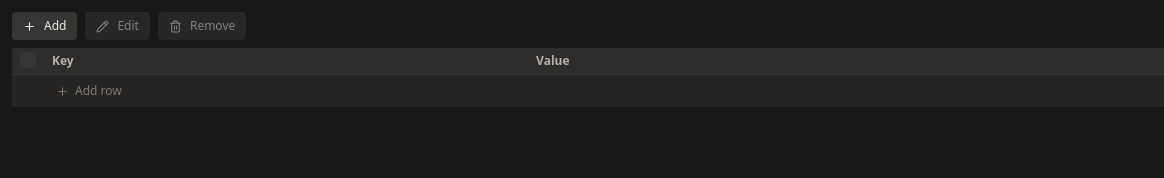
Test: KeyValueEditor › suggests known keys with search while typing a new key
Click the button with test id "kv-add" at (45, 26), box [12, 12, 77, 40]
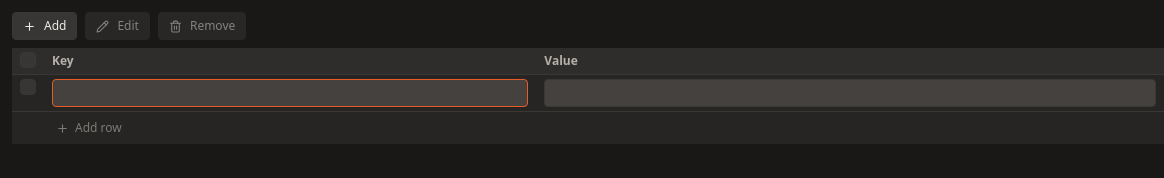
Type "limit" into the field with test id "kv-key-edit-" at (290, 93), box [52, 79, 528, 107]
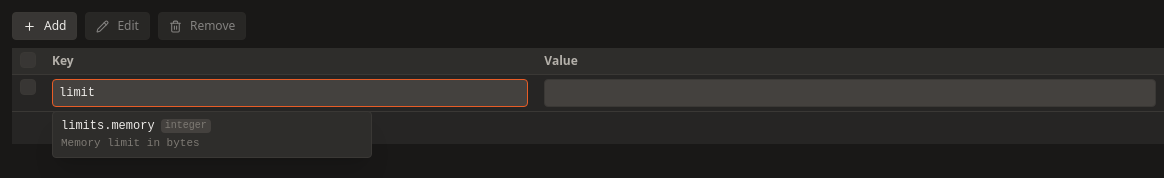
Result: the element with test id "kv-suggestions" is shown
Result: the button with test id "kv-suggest-limits.memory" is shown
Click the button with test id "kv-suggest-limits.memory" at (212, 134), box [53, 112, 371, 157]
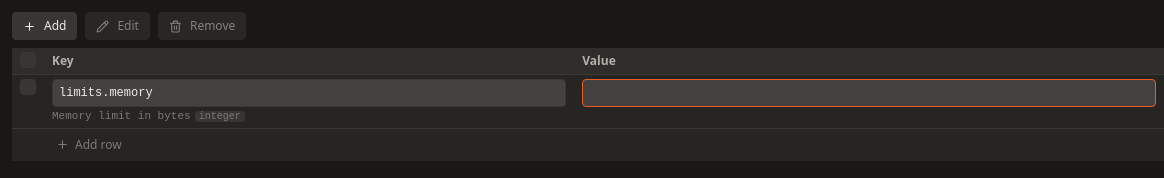
Result: the field with test id "kv-key-edit-" holds "limits.memory" at [52, 79, 566, 107]
Result: the element with test id "kv-key-hint" shows "Memory limit in bytes" at [52, 110, 191, 122]
Result: the element with test id "kv-key-hint" shows "integer" at [199, 111, 241, 122]
